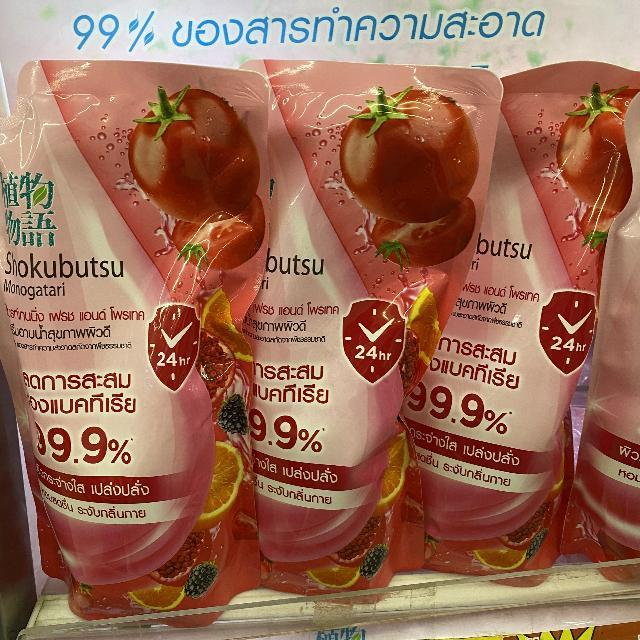Squeeze Tube: (0, 30, 639, 640), (16, 66, 278, 596), (261, 55, 489, 585), (422, 67, 636, 593)
